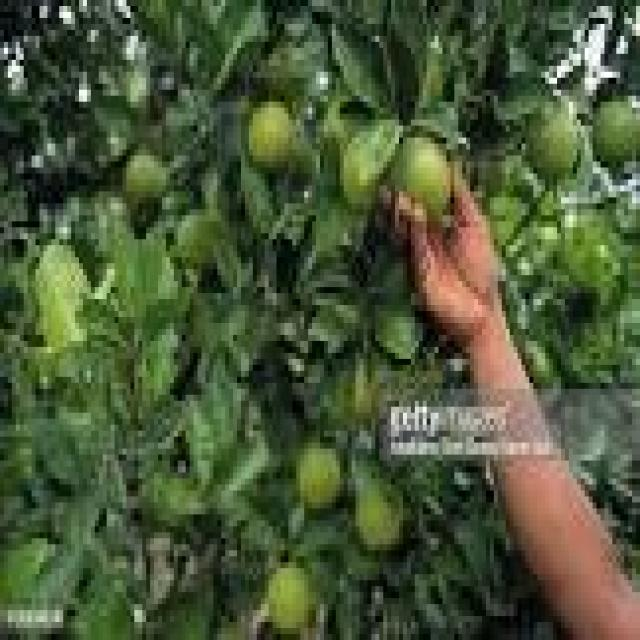orange: (391, 132, 450, 215), (525, 102, 577, 179), (265, 562, 312, 628), (249, 102, 292, 167), (296, 443, 340, 502), (593, 102, 636, 161), (122, 150, 166, 203)
